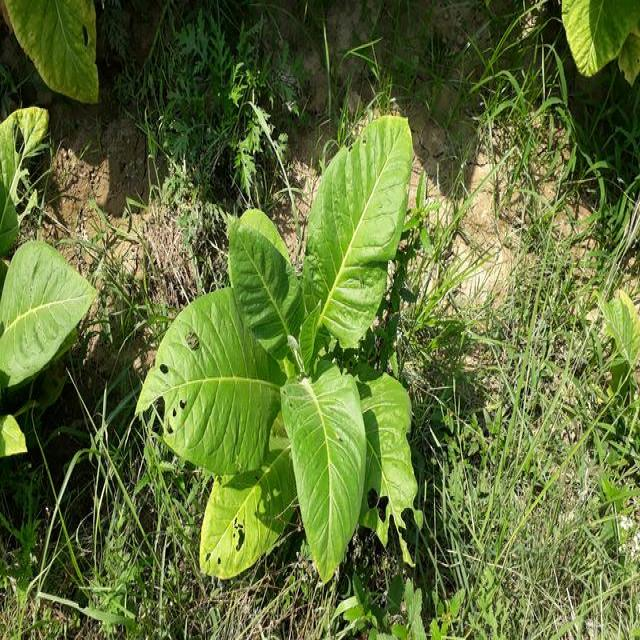crop: (142, 112, 422, 570), (0, 103, 92, 454), (0, 4, 106, 106), (554, 0, 639, 83)
